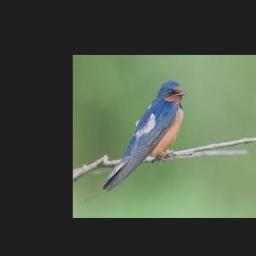Swallow: (102, 82, 186, 191)
